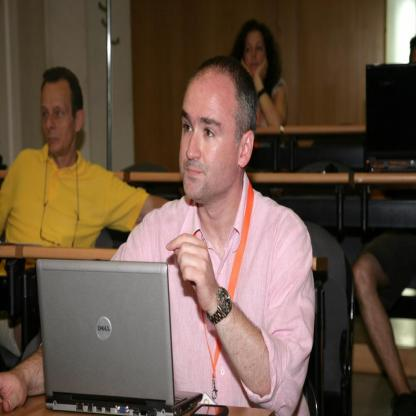board: (32, 258, 188, 416), (363, 64, 416, 174)
